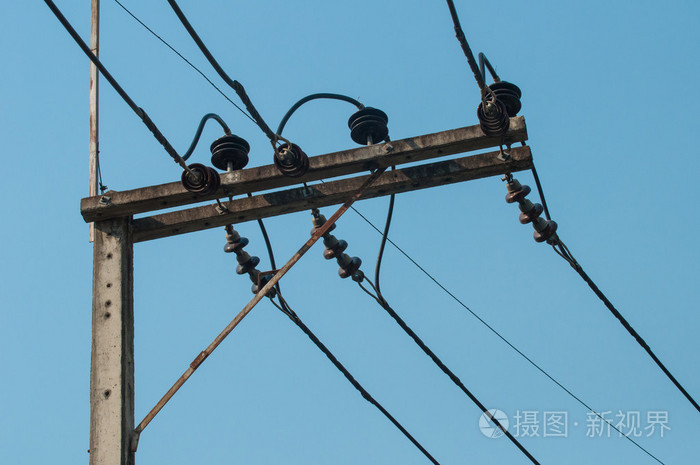insulator: (504, 185, 560, 243), (313, 218, 363, 279), (223, 237, 274, 295), (475, 99, 512, 139), (181, 164, 221, 195), (274, 144, 309, 178)
